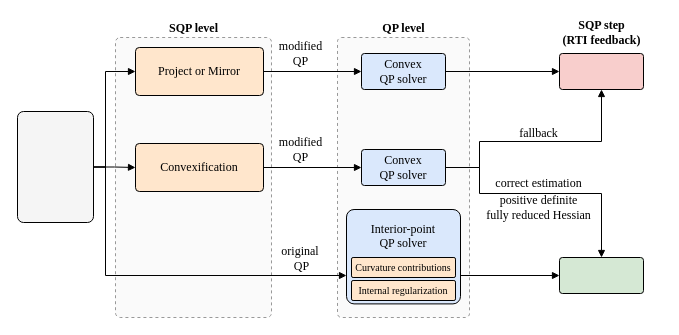
This 679x335 diagram has some shape labels left out. Here are the shapes that lost their labels. From the top down, the centre of each, then its label:
At point (601, 71): "Approximate Newton step".
At point (55, 166): "QP subproblem with indefinite full Hessian".
At point (601, 275): "Exact Newton step".
